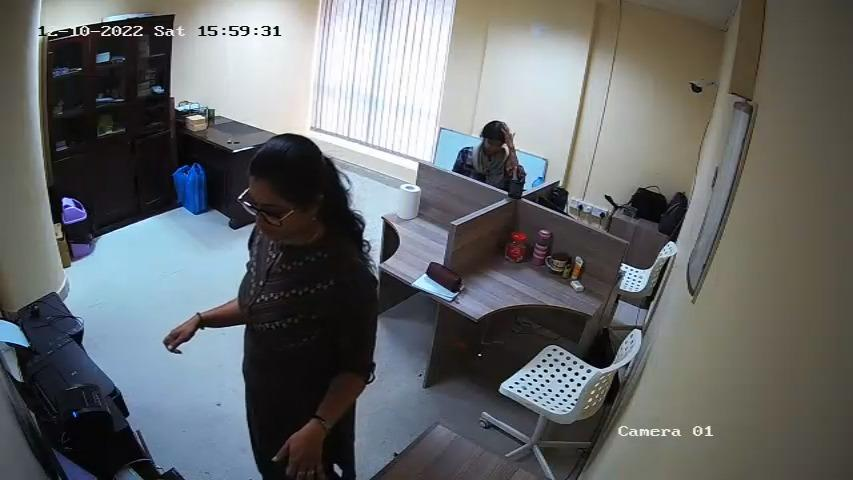no_gloves: (271, 430, 329, 480), (163, 311, 197, 357)
